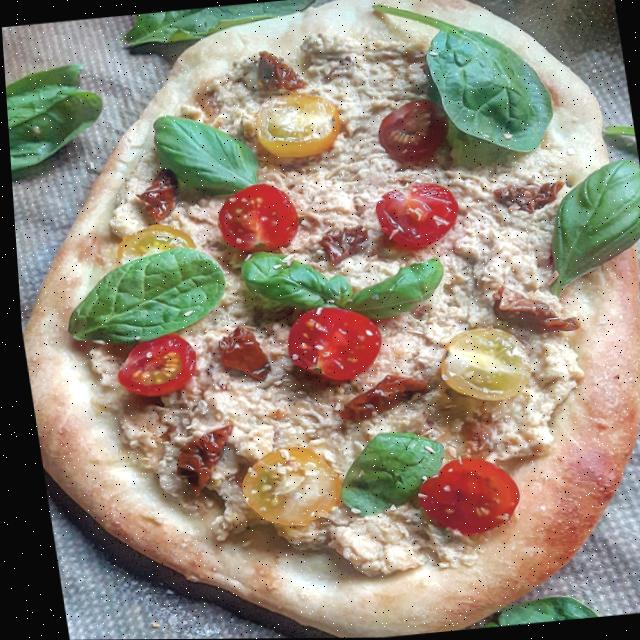basil: (373, 0, 558, 159), (230, 233, 449, 331), (50, 248, 227, 345), (529, 156, 640, 295), (141, 100, 270, 203), (324, 424, 446, 518)
pizza: (0, 0, 640, 640)
tomatoes: (227, 439, 341, 530), (405, 453, 519, 543), (273, 300, 387, 387), (430, 322, 537, 411), (367, 177, 471, 254), (210, 178, 304, 257), (102, 331, 203, 402), (248, 88, 343, 162), (369, 92, 453, 167), (104, 217, 192, 264)
